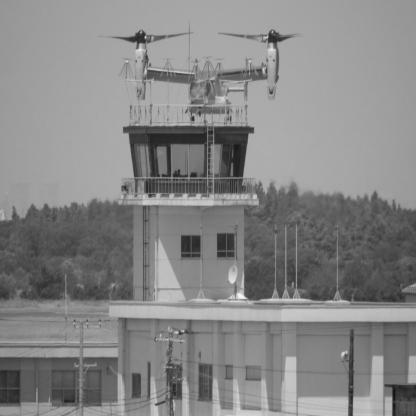V22: (98, 30, 305, 125)
